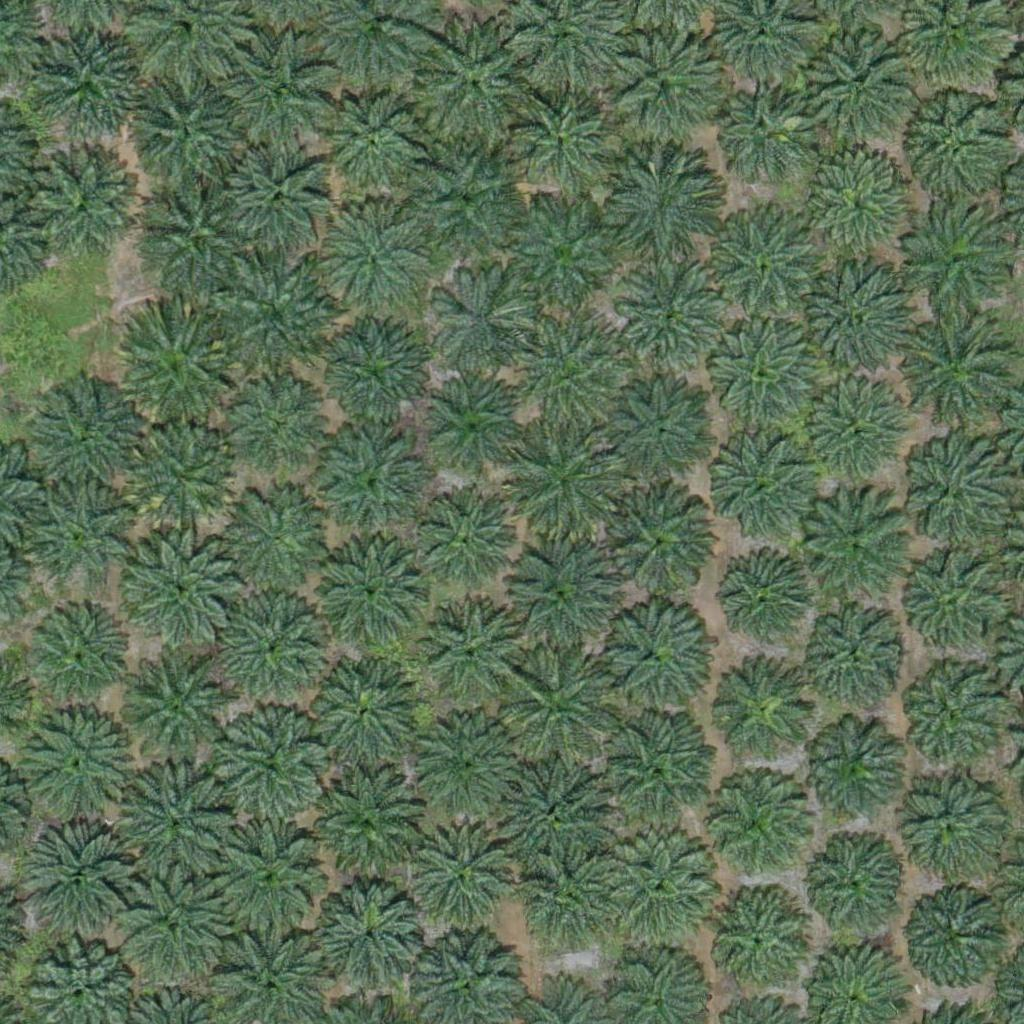Kelapa_Sawit: (418, 22, 543, 148), (592, 830, 717, 956), (113, 310, 238, 435), (706, 320, 819, 434), (600, 375, 713, 489), (893, 764, 1006, 878), (223, 142, 336, 255), (220, 38, 333, 151), (319, 322, 432, 435), (604, 151, 717, 264), (607, 31, 720, 144), (709, 210, 822, 323), (798, 490, 911, 603), (504, 644, 617, 757), (496, 757, 609, 870), (405, 822, 518, 935), (309, 533, 422, 646), (127, 529, 240, 642), (124, 656, 237, 769), (118, 769, 231, 882), (17, 703, 130, 816), (117, 877, 230, 990), (211, 820, 324, 933), (409, 151, 521, 265), (504, 202, 616, 316), (618, 261, 730, 375), (600, 483, 712, 597), (595, 596, 707, 710), (509, 422, 621, 536), (18, 825, 130, 939), (27, 148, 139, 261), (34, 23, 146, 136), (131, 80, 243, 193), (138, 178, 250, 291), (220, 265, 332, 378), (508, 322, 620, 435), (796, 266, 908, 379), (802, 149, 914, 262), (803, 35, 915, 148), (901, 205, 1013, 318), (896, 319, 1008, 432), (897, 430, 1009, 543), (895, 540, 1007, 653), (705, 890, 817, 1003), (702, 770, 814, 883), (600, 708, 712, 821), (502, 541, 614, 654), (305, 654, 417, 767), (312, 772, 424, 885), (218, 481, 330, 594), (219, 591, 331, 704), (217, 707, 329, 820), (315, 885, 427, 998), (327, 207, 427, 308), (421, 378, 521, 479), (714, 76, 814, 177), (907, 94, 1007, 195), (903, 663, 1003, 764), (714, 437, 814, 538), (414, 489, 514, 590), (418, 596, 518, 697), (416, 713, 516, 814), (322, 431, 422, 532), (225, 374, 325, 475), (131, 424, 231, 525), (41, 386, 141, 487), (29, 484, 129, 585), (25, 605, 125, 706), (320, 90, 420, 190), (427, 275, 527, 375), (513, 86, 613, 186), (809, 381, 909, 481), (914, 885, 1014, 985), (809, 609, 909, 709), (803, 718, 903, 818), (804, 837, 904, 937), (718, 551, 818, 651), (719, 661, 819, 761), (525, 861, 600, 936)
